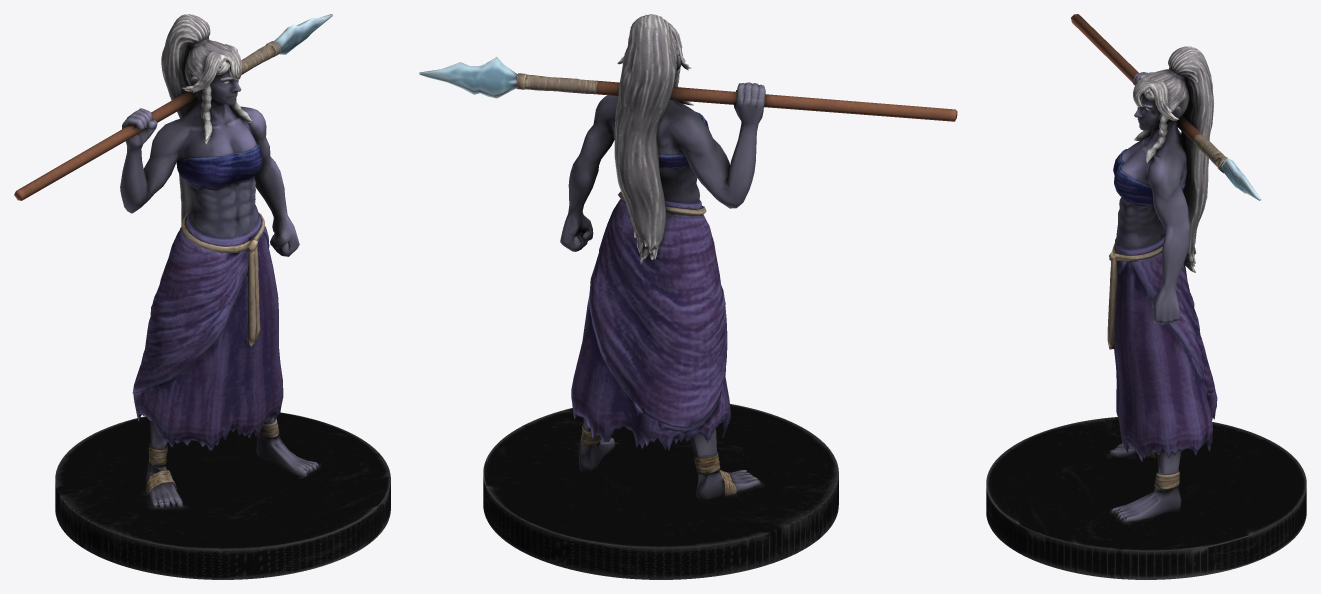
File: MZ4250 - Drow Tribal Female Warrior.glb
The picture shows the model from 3 angles, left to right: view 1: azimuth 30°, elevation 25°; view 2: azimuth 150°, elevation 25°; view 3: azimuth 270°, elevation 25°; orthographic projection. The views are drawn at different scales.
Parts seen in each view (by area): view 1: body_high.002, base_high.002, spear_high.002; view 2: body_high.002, base_high.002, spear_high.002; view 3: base_high.002, body_high.002, spear_high.002.
Boxes of the visible parts, box(x1,y1,x2,y2) form: body_high.002: box(120, 14, 318, 508); base_high.002: box(55, 412, 390, 579); spear_high.002: box(14, 14, 332, 200); body_high.002: box(560, 14, 765, 500); base_high.002: box(483, 404, 838, 579); spear_high.002: box(419, 57, 957, 121); base_high.002: box(986, 417, 1306, 579); body_high.002: box(1107, 46, 1217, 522); spear_high.002: box(1071, 14, 1260, 200).
Size of the model in its own units: 5.37 by 5.99 by 3.79.
Materials: 1 (1 with a texture image).
